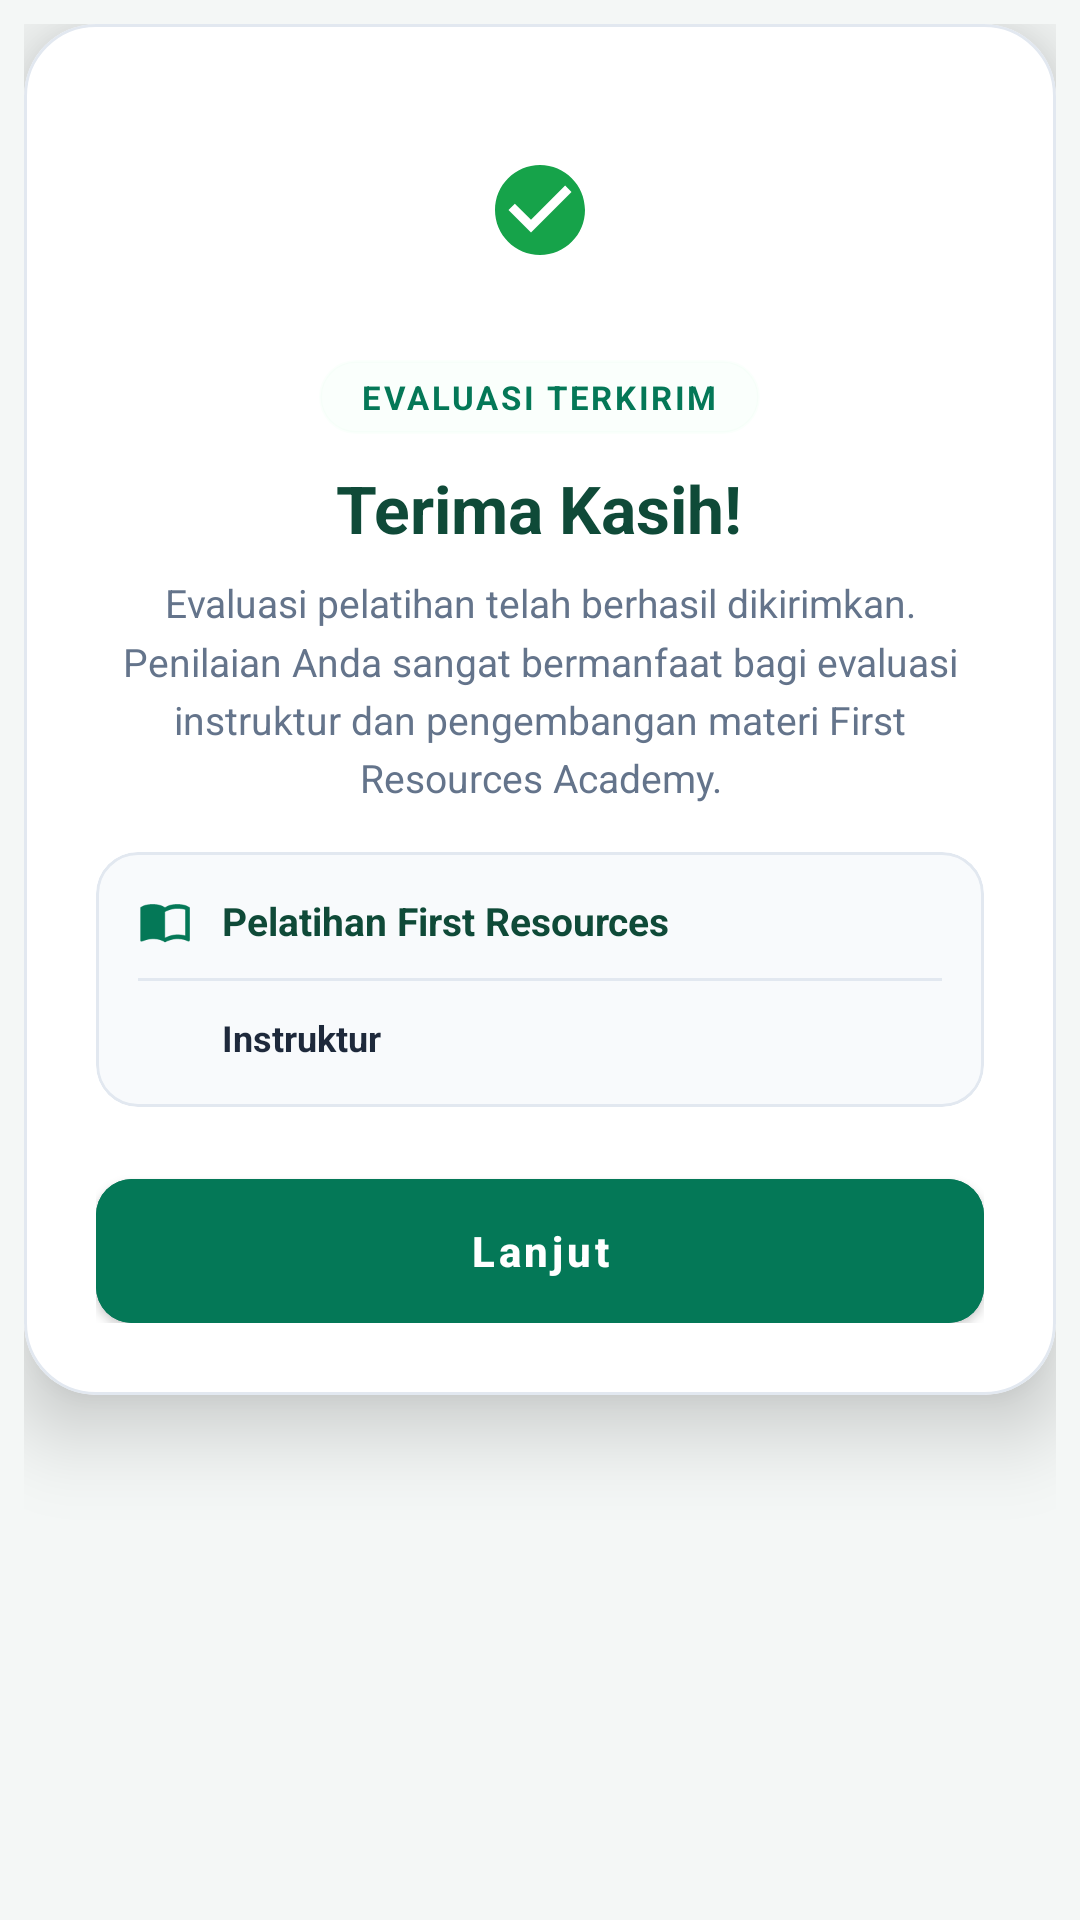

Icons on this 1080×1920 Android screen, each with its box as (x1, y1, x2, y2):
book: (140, 904, 190, 943)
Success Icon: (495, 165, 585, 255)
